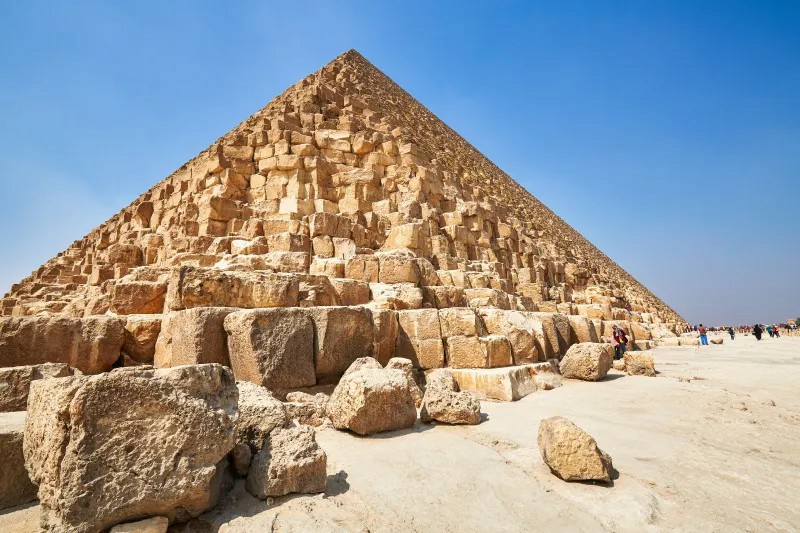Pyramid: (10, 49, 696, 336)
